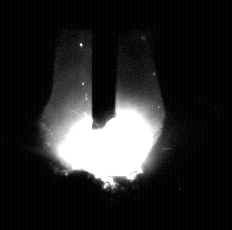arame: (93, 0, 117, 128)
poca: (40, 0, 164, 230)
